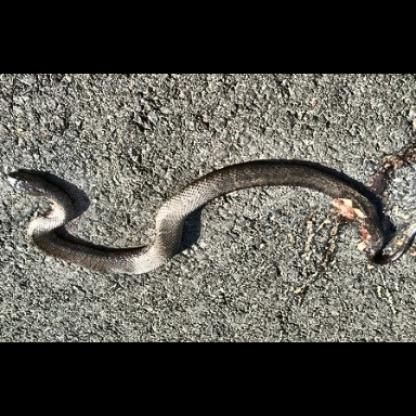Snake: (7, 163, 413, 281)
